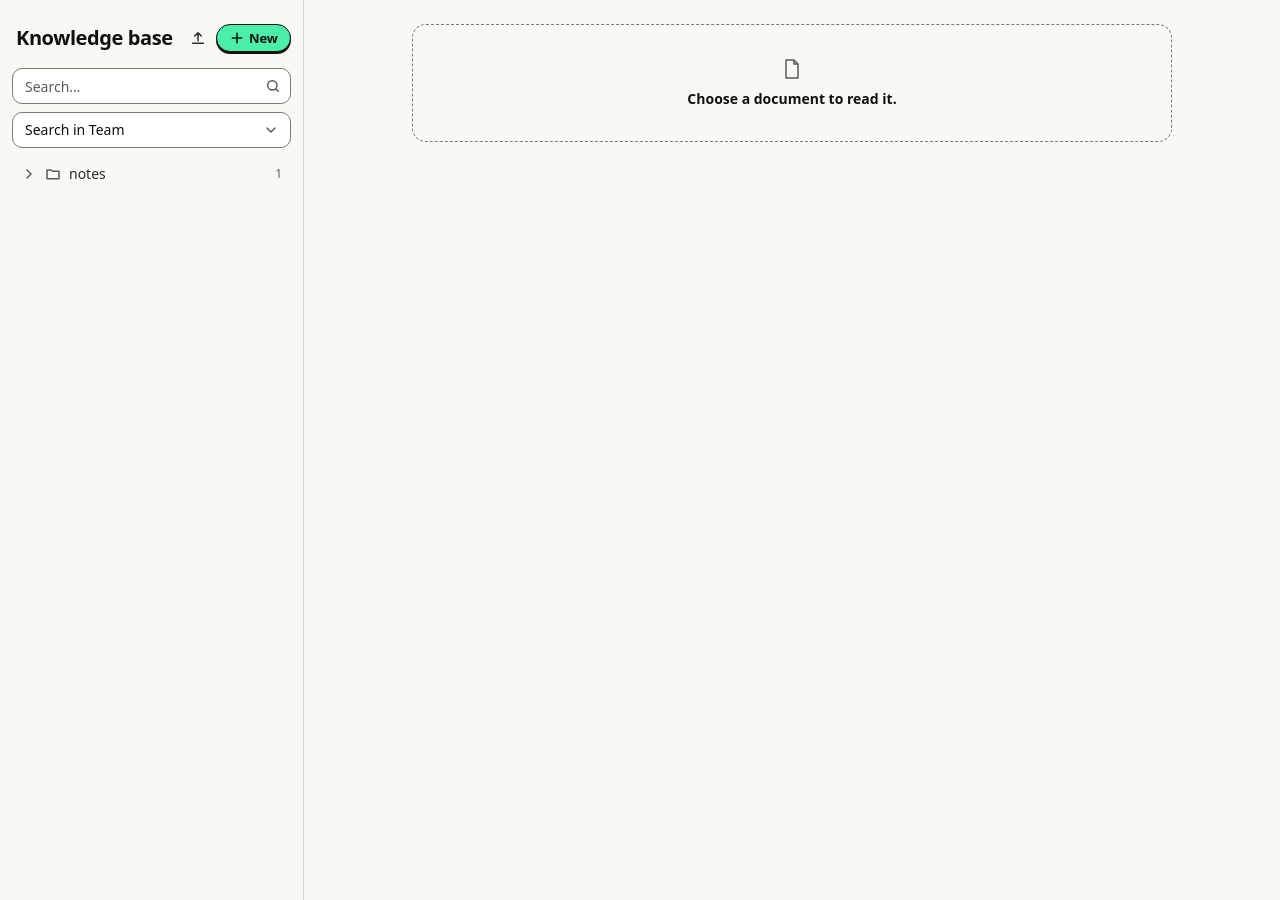
Test: creates a Markdown document and opens it to edit
Click the button "New" at (253, 38), box [216,24,291,52]
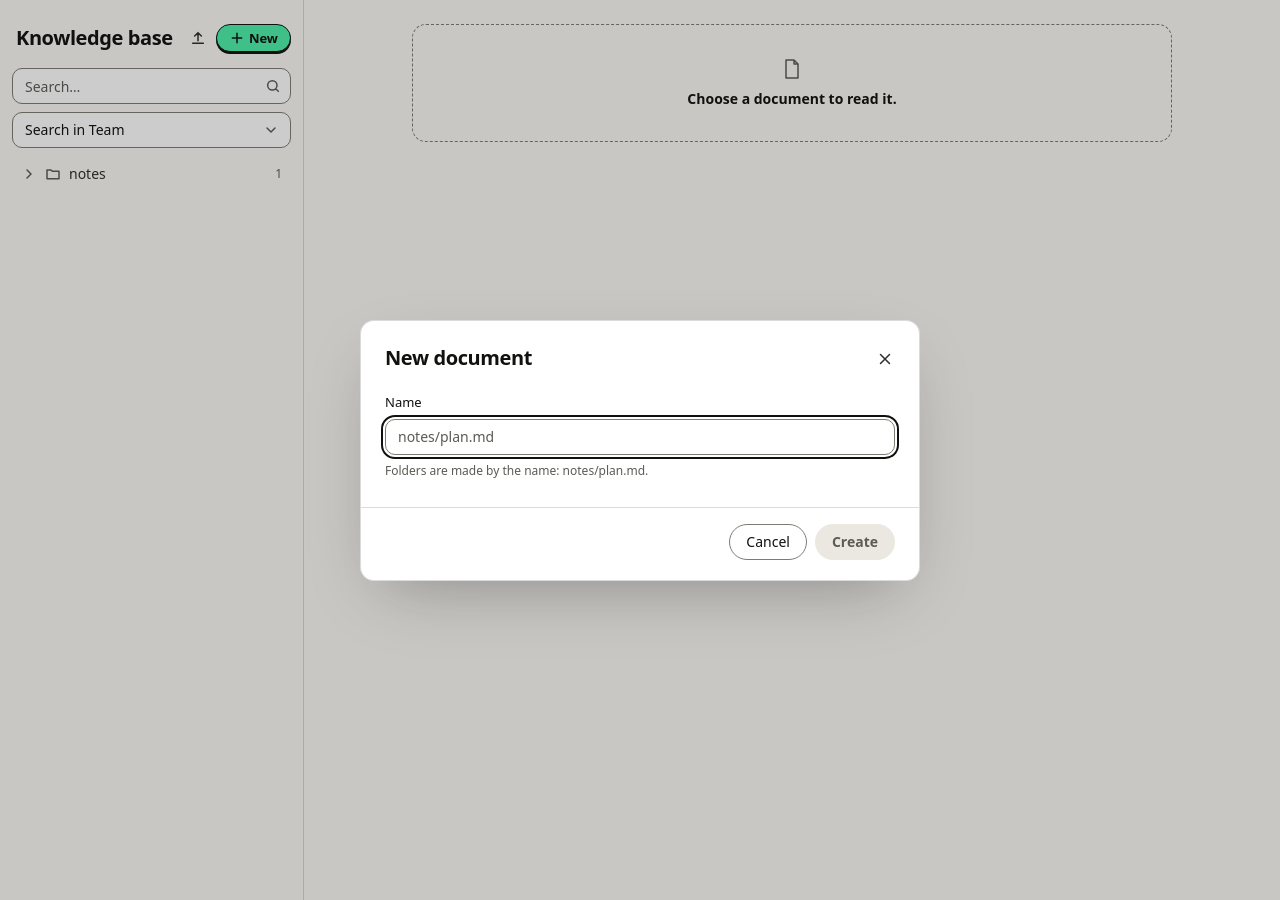
Type "ideas/launch" into the field labelled "Name" at (640, 436), box [385,418,895,454]
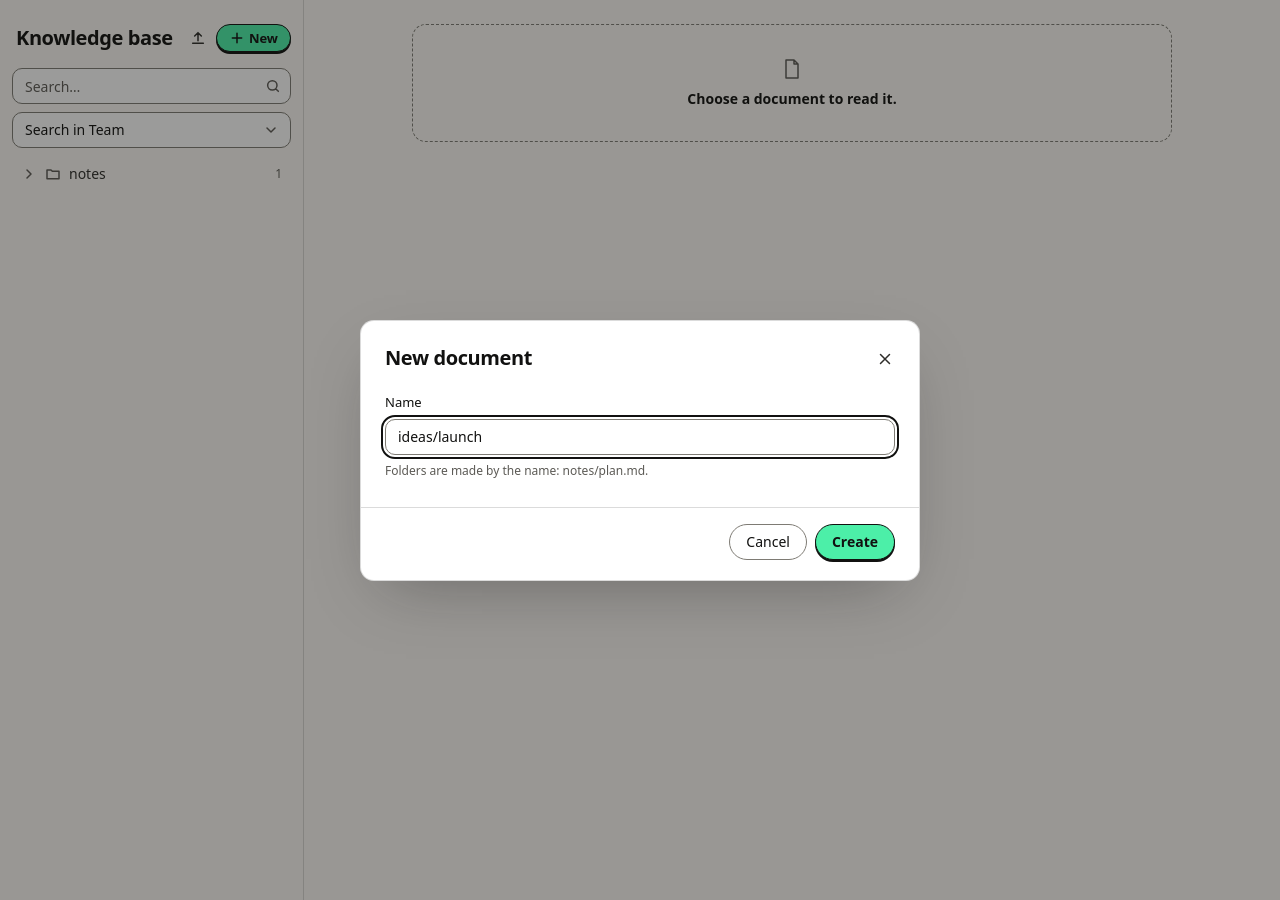
Click the button "Create" at (855, 542), box [815,524,895,560]
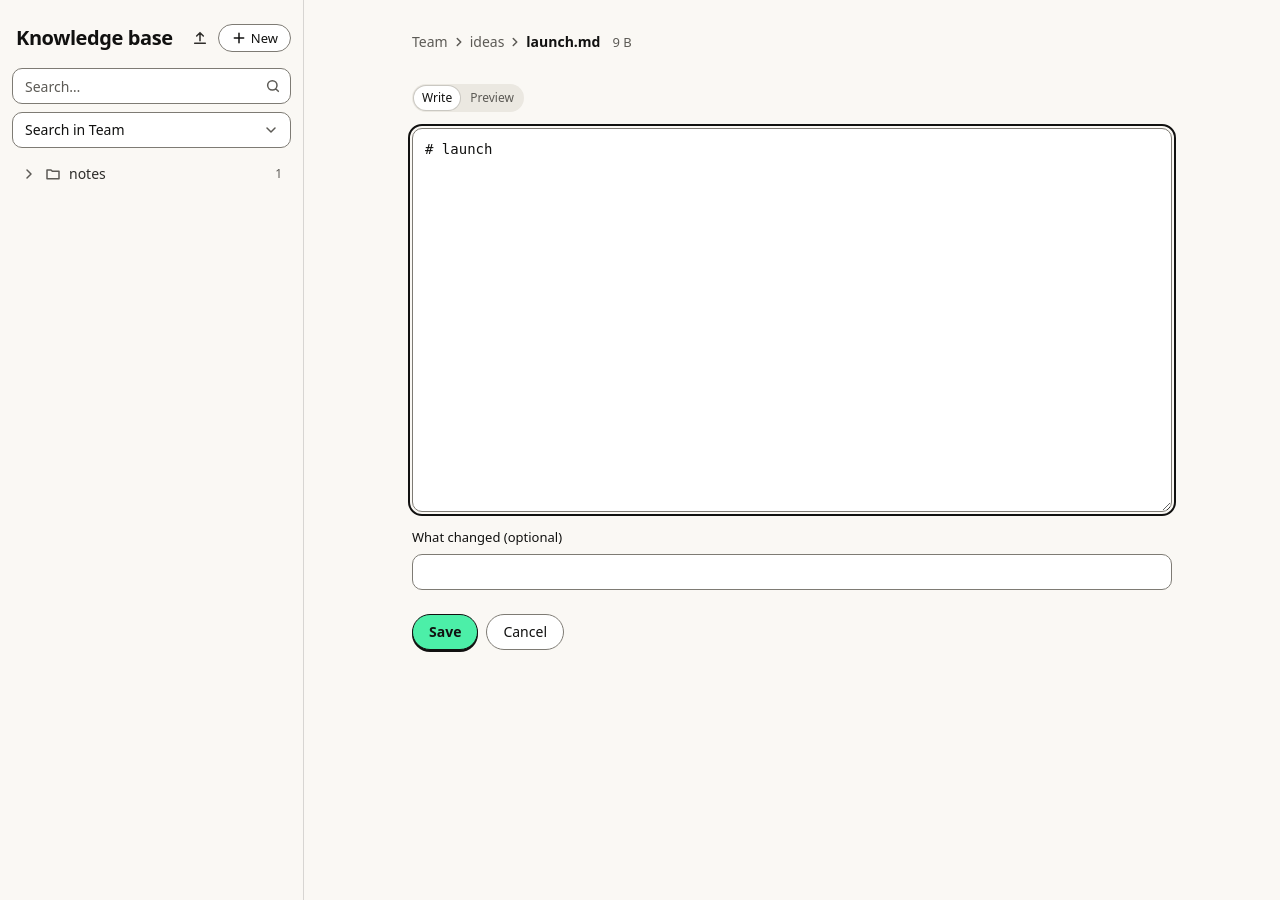
Expected: the dialog is gone
Expected: the number of buttons with class "ui-button-primary" is 1, [412,614,478,650]
